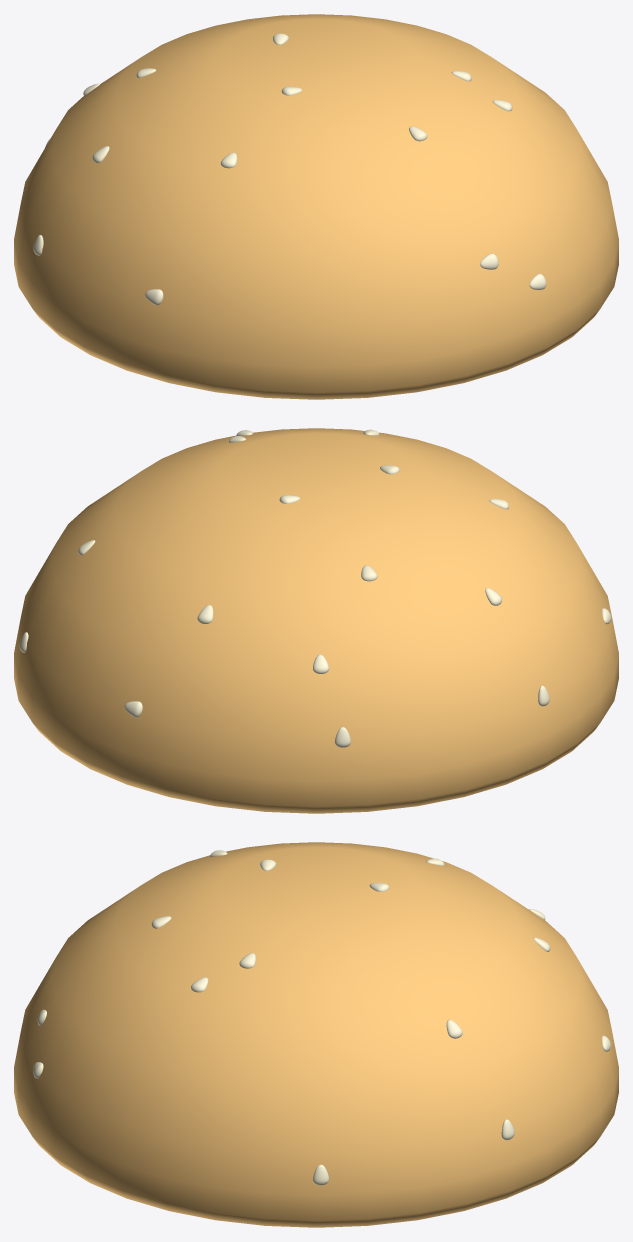
Rendered from panArriba.glb.
3 renders of one model, top to bottom at view 1: azimuth 30°, elevation 25°; view 2: azimuth 150°, elevation 25°; view 3: azimuth 270°, elevation 25°, orthographic.
Parts seen in each view (by area): view 1: top_bun_1, seeds; view 2: top_bun_1, seeds; view 3: top_bun_1, seeds.
Part boxes in pixels (x1,y1,x2,y2): top_bun_1: (14, 14, 618, 399); seeds: (33, 33, 546, 305); top_bun_1: (14, 428, 618, 813); seeds: (19, 429, 611, 747); top_bun_1: (14, 842, 618, 1227); seeds: (33, 850, 610, 1185).
Size of the model in its own units: 119 by 47.06 by 119.
